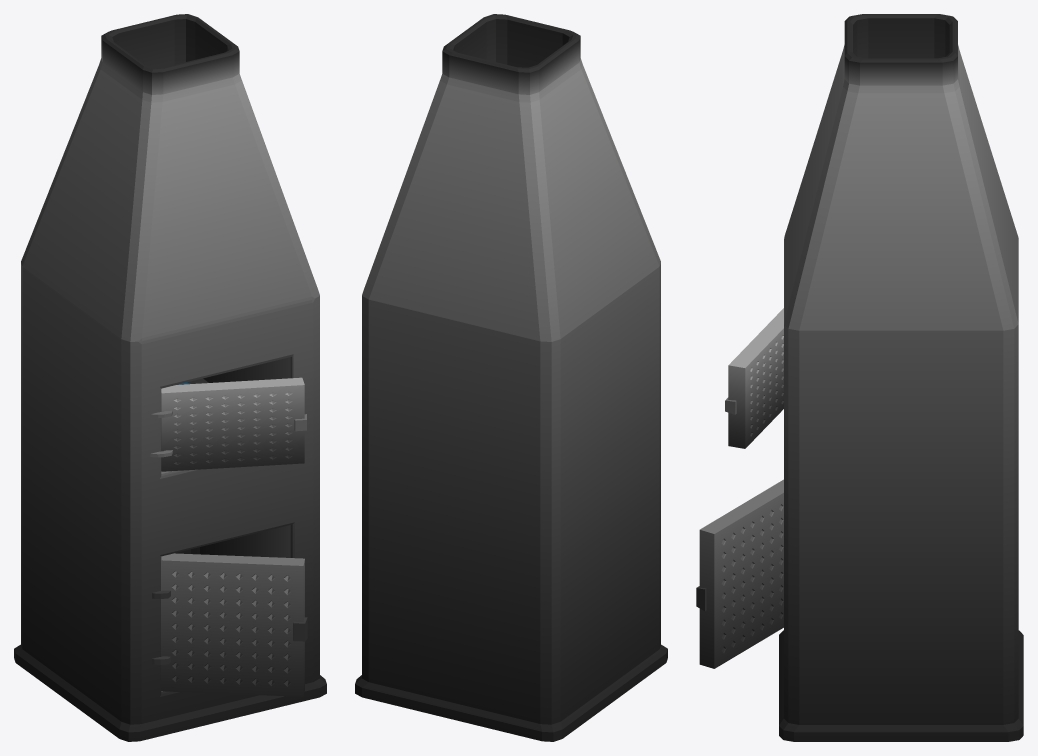
The model's file is Forja.fbx.
3 renders of one model, left to right at view 1: azimuth 30°, elevation 25°; view 2: azimuth 150°, elevation 25°; view 3: azimuth 270°, elevation 25°, orthographic. The views are drawn at different scales.
Parts seen in each view (by area): view 1: base, porta combustivel, porta minerio; view 2: base; view 3: base, porta combustivel, porta minerio.
Boxes of the visible parts, x1,y1,x2,y2 form: base: (14,14,326,741); porta combustivel: (152,553,307,696); porta minerio: (150,377,306,471); base: (355,14,667,741); base: (779,14,1023,741); porta combustivel: (696,479,783,668); porta minerio: (725,308,783,448).
Bounding box in the file's own units: 104 × 307 × 140.
